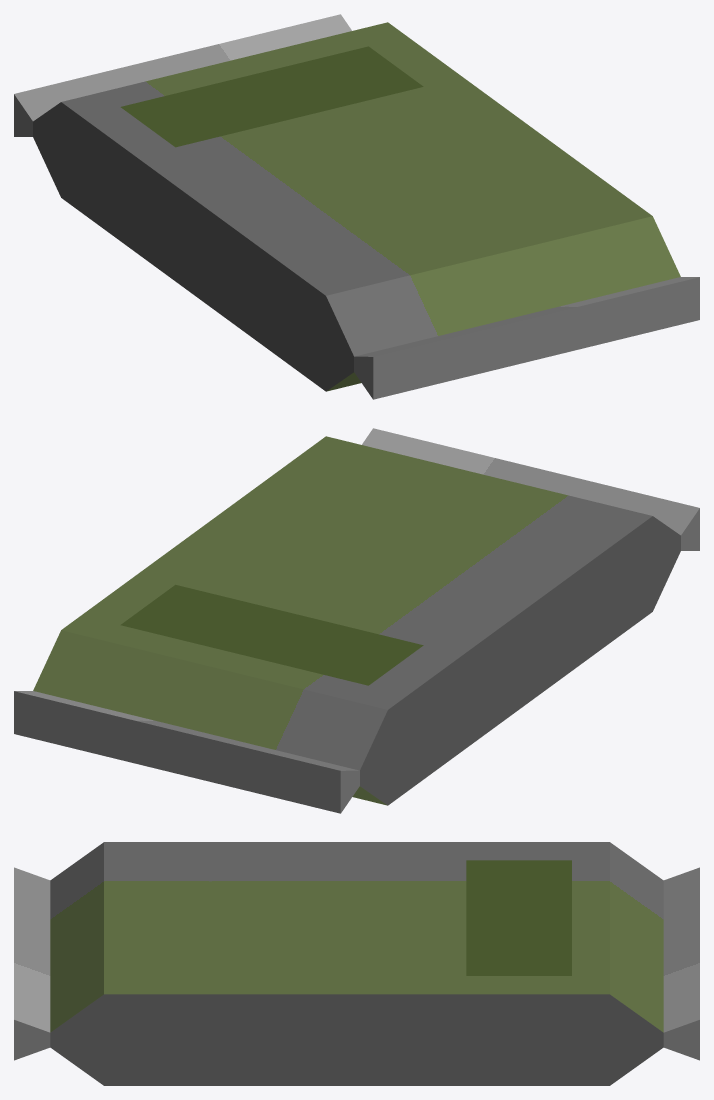
Rendered from Food.fbx.
3 views of the same model, one above another, from view 1: azimuth 30°, elevation 25°; view 2: azimuth 150°, elevation 25°; view 3: azimuth 270°, elevation 25° (orthographic). The views are drawn at different scales.
Visible parts, largest first — view 1: Model_0; view 2: Model_0; view 3: Model_0.
Boxes of the visible parts, box(x1,y1,x2,y2) form: Model_0: box(14, 14, 699, 399); Model_0: box(14, 428, 699, 813); Model_0: box(14, 842, 699, 1085).
Bounding box in the file's own units: 0.3578 × 0.1003 × 0.6811.
